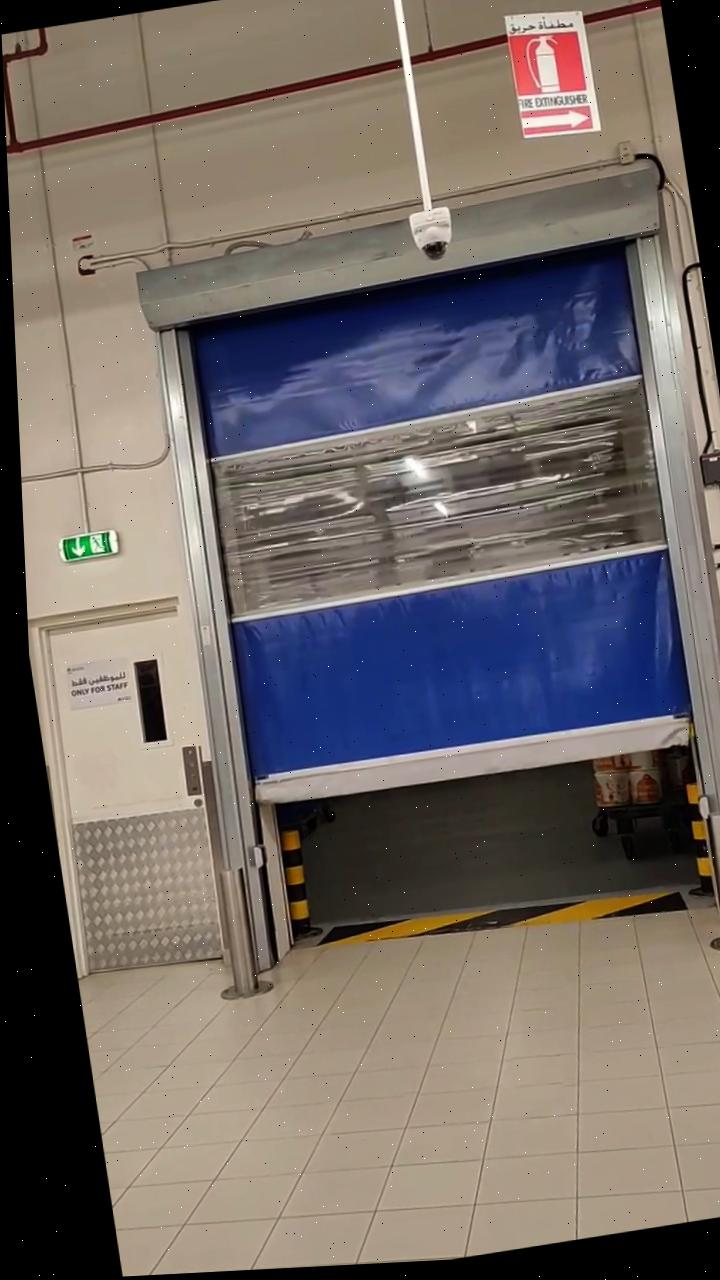Strip: (316, 864, 680, 968)
